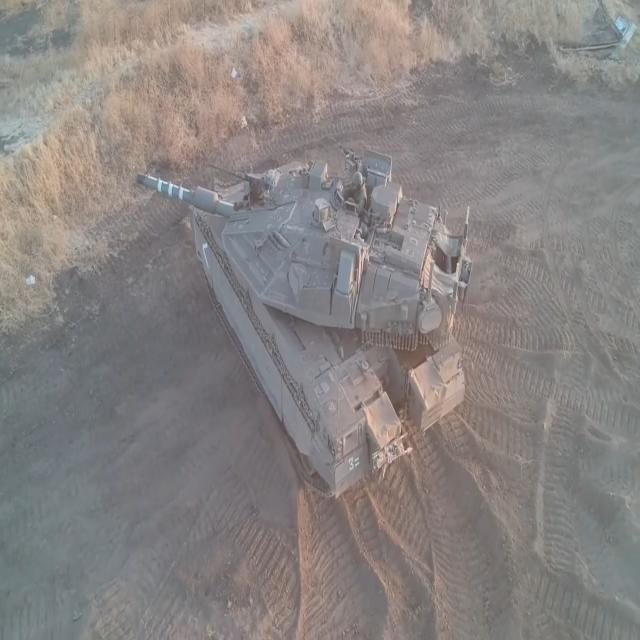tank: (134, 134, 484, 513)
